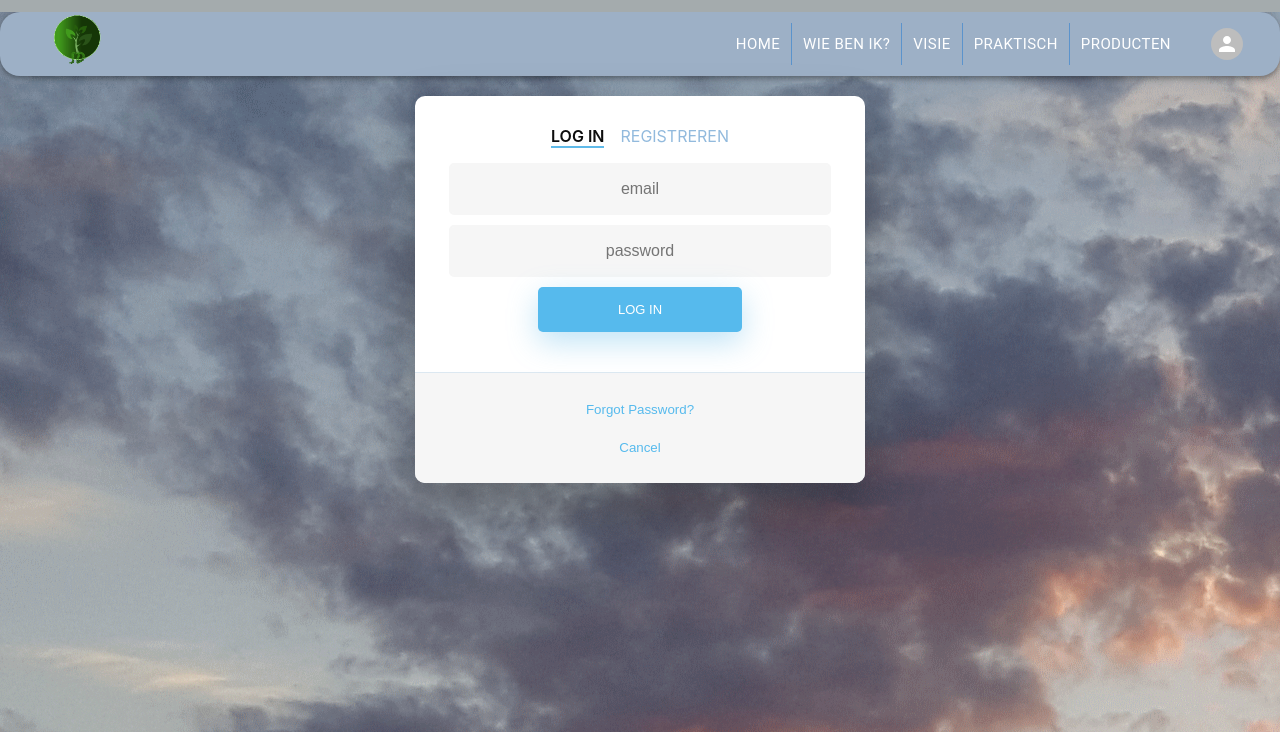
Test: login › fout wachtwoord
The image size is (1280, 732).
Type "bram.decoster1@gmail.com" into the field with test id "email_input" at (641,189), box [449, 163, 832, 215]
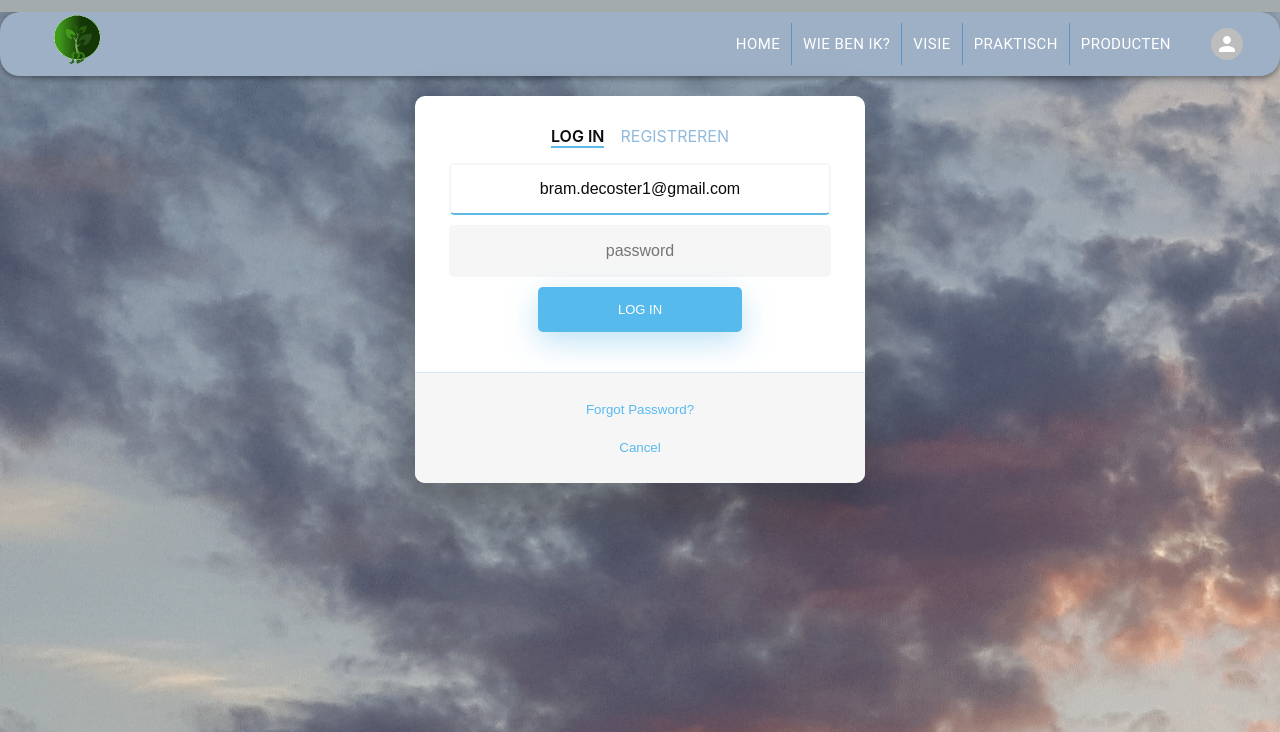
Type "eenFoutPasswoord" into the password field with test id "password_input" at (641,251), box [449, 225, 832, 277]
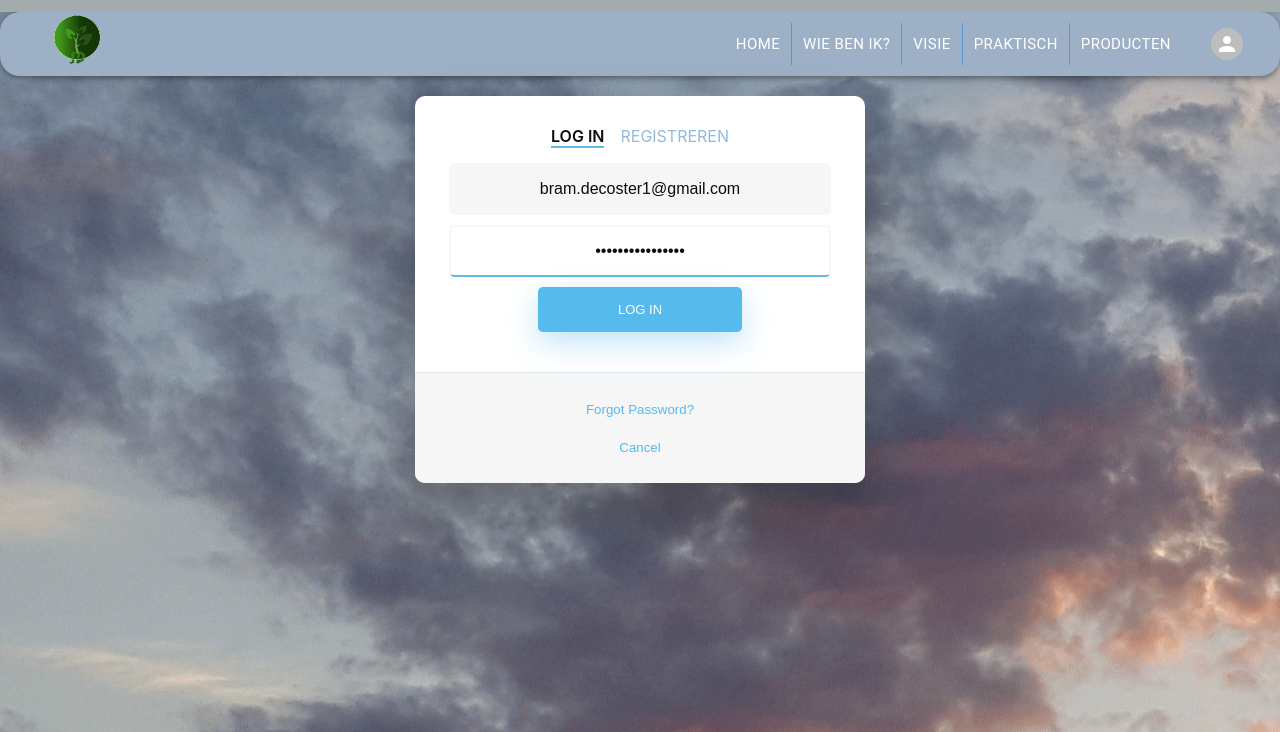
Click the button with test id "submit_login" at (640,310), box [538, 287, 742, 332]
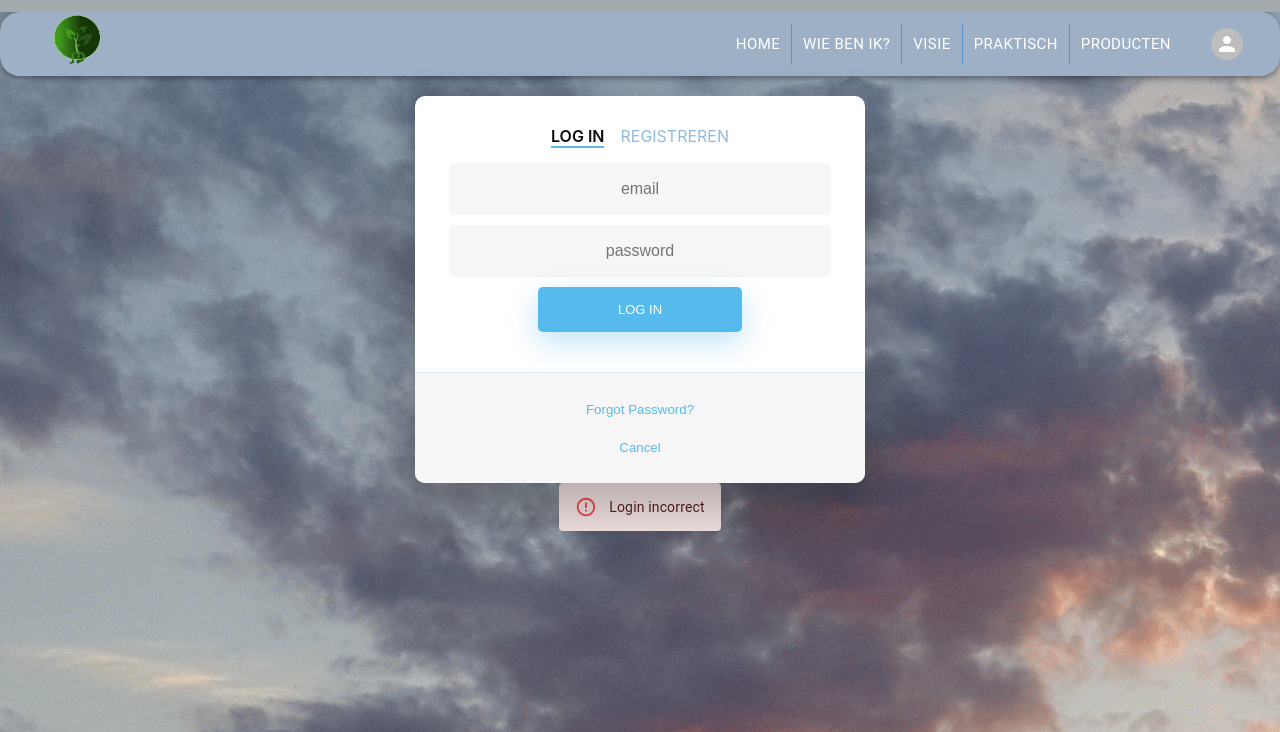
Expected: the message "Login incorrect" is shown, [559, 483, 721, 531]
Expected: the text "Login incorrect" is shown, [609, 499, 705, 515]
